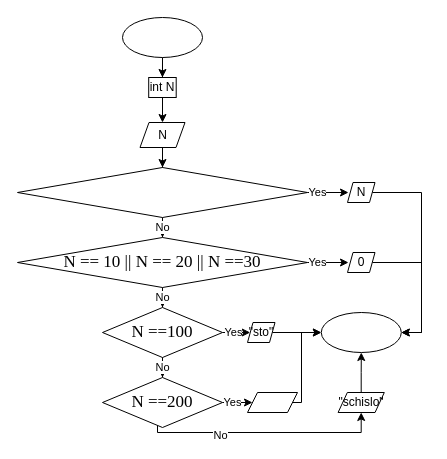
Image size: 447x459. Some labels were removed from this diagram. Here are the shapes that lost their labels. From the top down, the centre of each, then its label:
[162,37]: Начало
[162,192]: N == 1|| N == 11 || N ==111
[360,332]: Конец
[272,402]: "dvesti"
